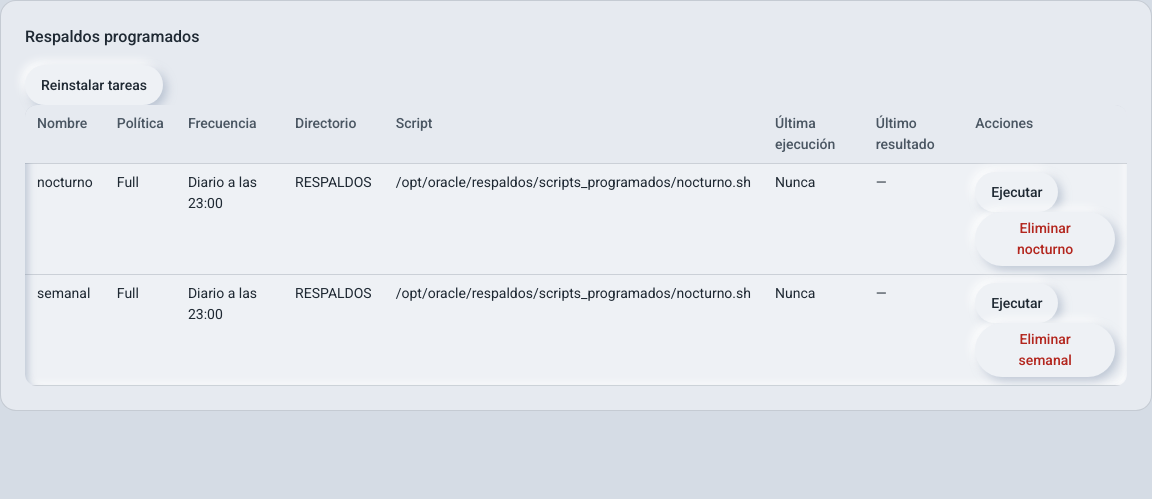
Test: Eliminar y Reinstalar tareas › al confirmar envía DELETE /respaldos/programados/<id> con el token, avisa y recarga
What coordinates should you click on to do the following:
click the button "Eliminar nocturno"
I would click on:
 (1045, 239)
Its box is [975, 212, 1115, 266].
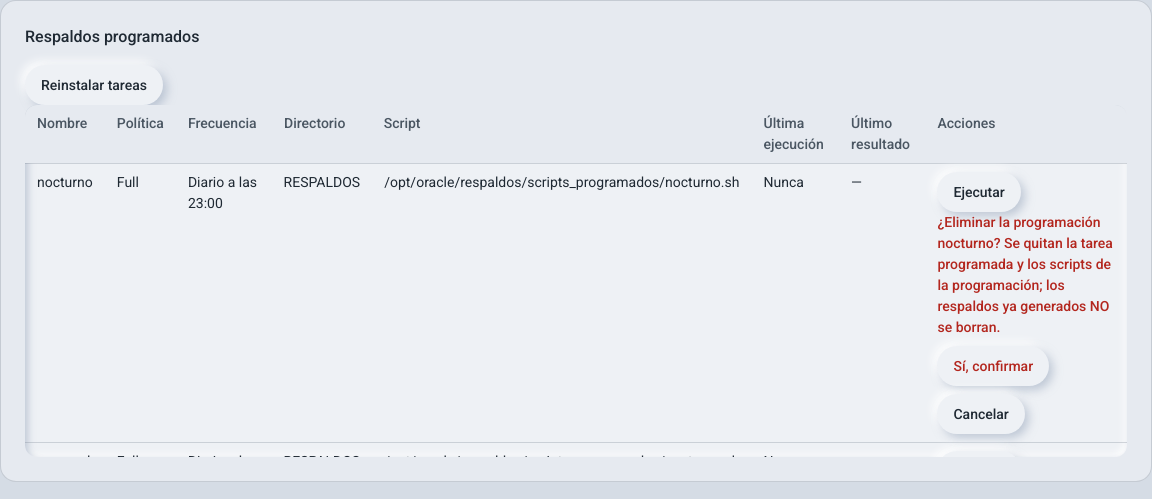
What coordinates should you click on to do the following:
click the button "Sí, confirmar"
I would click on:
 (993, 366)
Its box is [938, 346, 1049, 386].
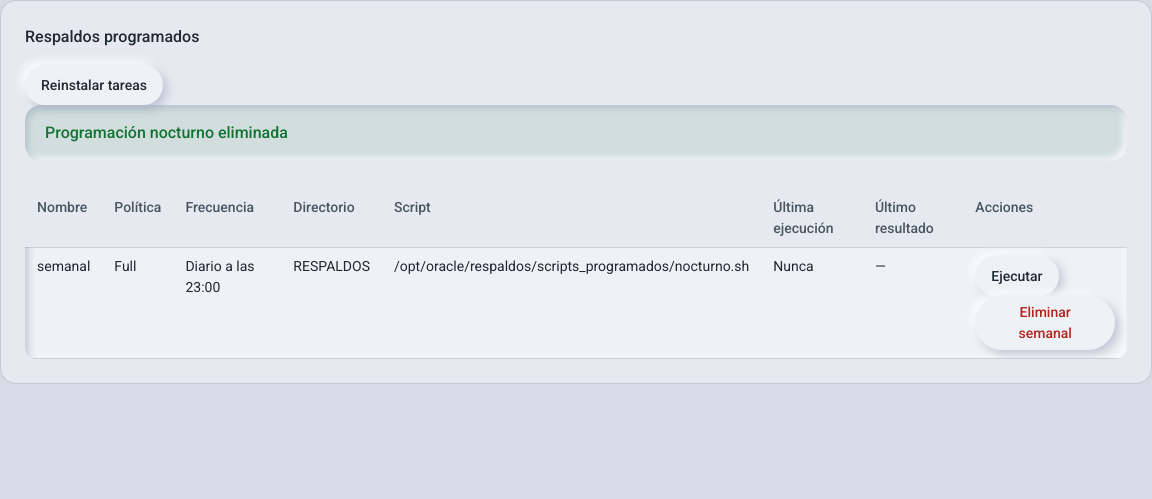
Now the message reads "Programación nocturno eliminada", box [45, 123, 288, 142]
